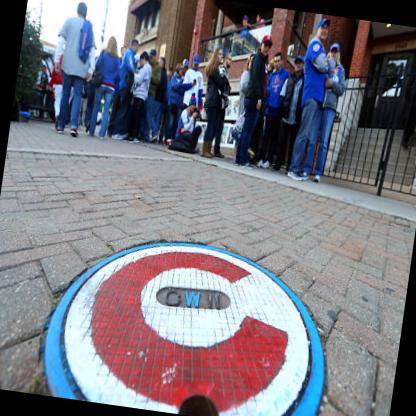manholes: (19, 174, 367, 416)
